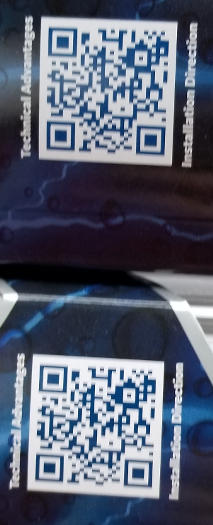QR_CODE: (41, 15, 175, 165), (32, 357, 166, 496)
